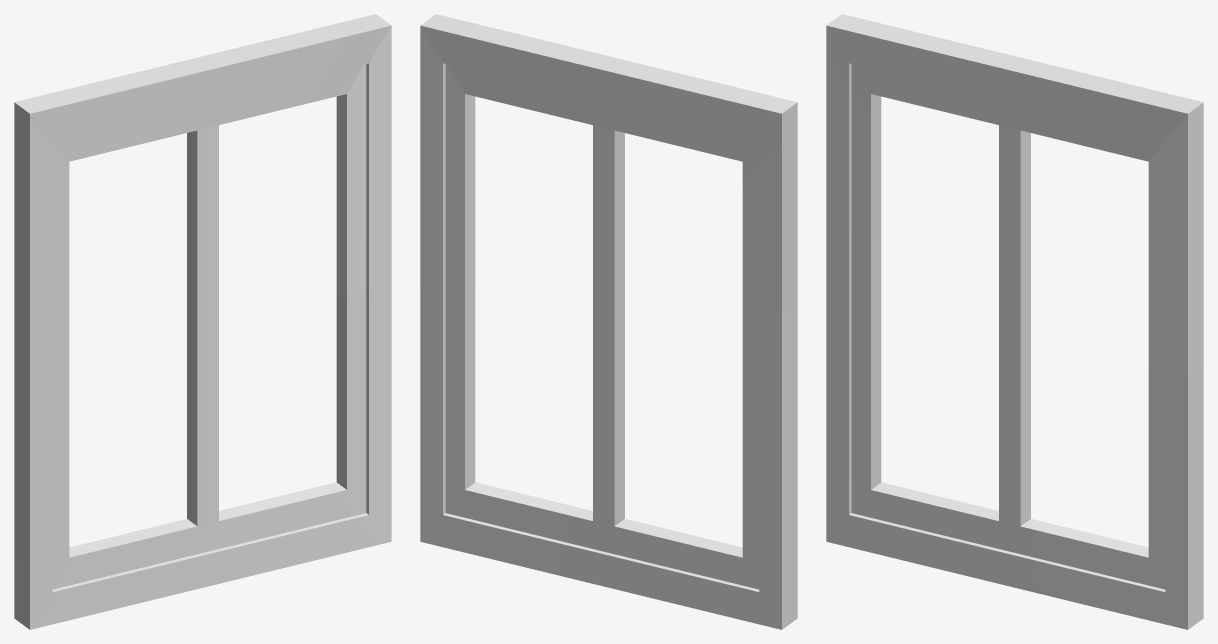
The model's file is window.fbx.
3 renders of one model, left to right at view 1: azimuth 30°, elevation 25°; view 2: azimuth 150°, elevation 25°; view 3: azimuth 330°, elevation 25°, orthographic.
Parts seen in each view (by area): view 1: pasted__pPipe1, pasted__pPipe2, pasted__pCube47; view 2: pasted__pPipe1, pasted__pPipe2, pasted__pCube47; view 3: pasted__pPipe1, pasted__pPipe2, pasted__pCube47.
Part boxes in pixels (x1,y1,x2,y2): pasted__pPipe1: (14,14,391,629); pasted__pPipe2: (52,64,366,589); pasted__pCube47: (187,125,218,532); pasted__pPipe1: (420,14,797,629); pasted__pPipe2: (445,64,759,589); pasted__pCube47: (593,125,624,526); pasted__pPipe1: (826,14,1203,629); pasted__pPipe2: (851,64,1165,589); pasted__pCube47: (999,125,1030,532).
Size of the model in its own units: 2.21 by 3.02 by 0.1673.
Materials: 1 (1 with a texture image).
